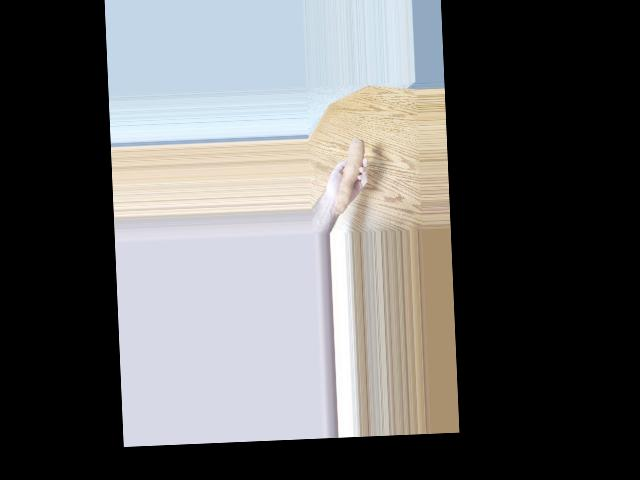sweet_potato: (335, 126, 371, 205)
